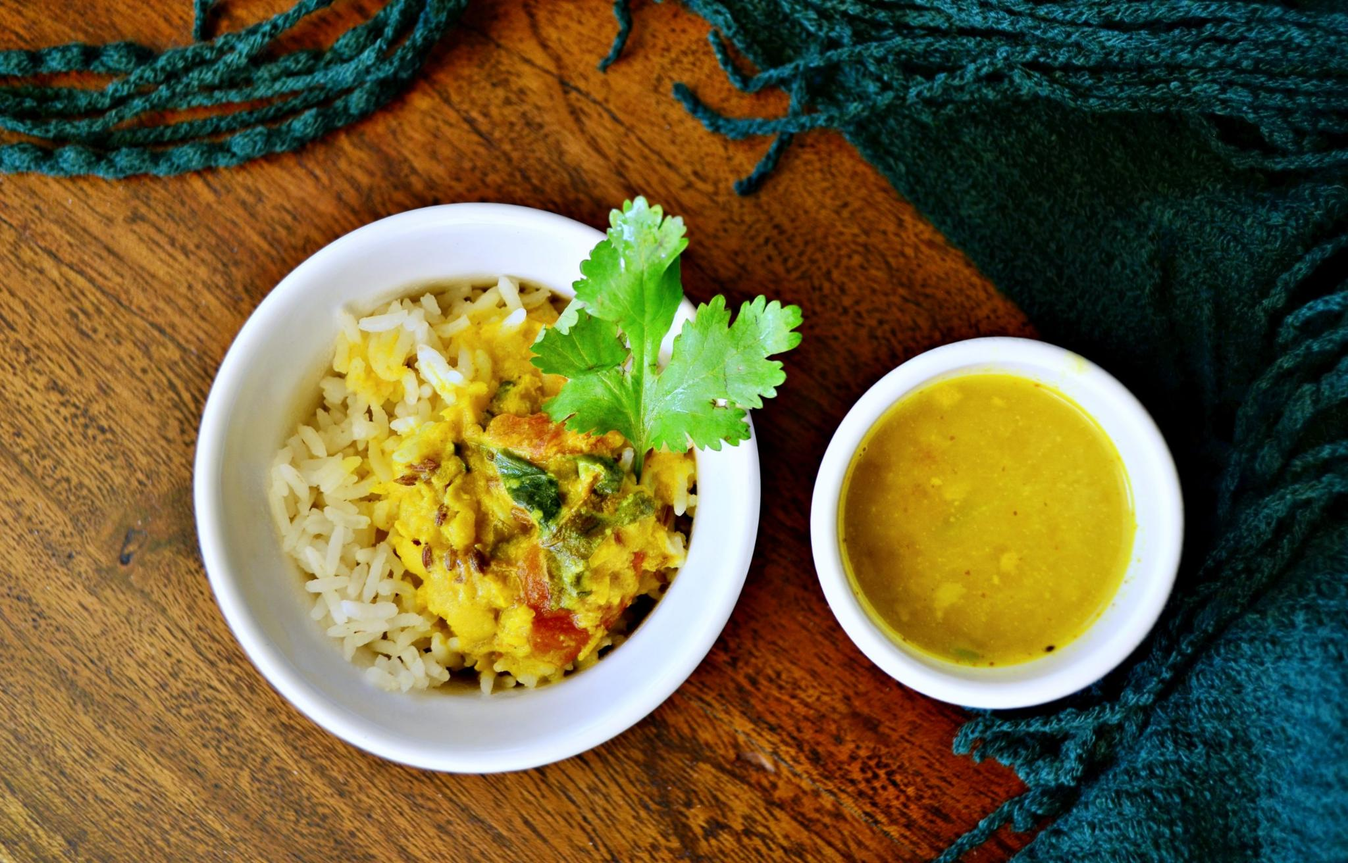rice: (275, 346, 610, 703)
varan: (878, 409, 1124, 662)
